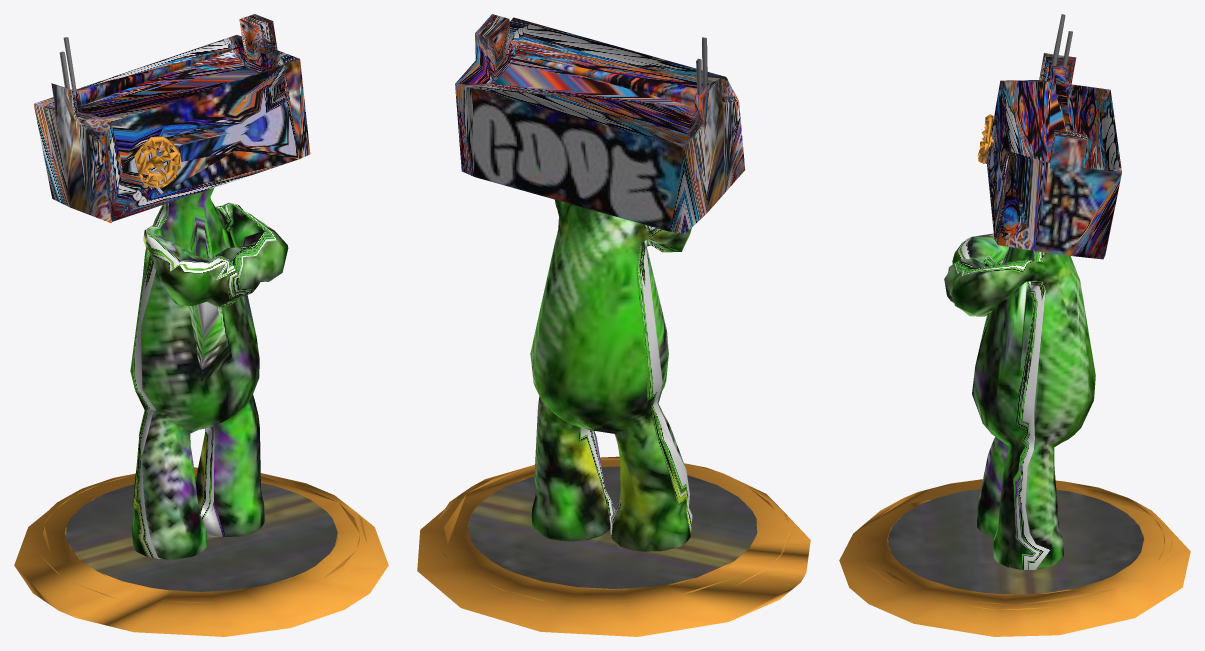
3 views of the same model, side by side, from view 1: azimuth 30°, elevation 25°; view 2: azimuth 150°, elevation 25°; view 3: azimuth 270°, elevation 25° (orthographic). The views are drawn at different scales.
Bounding box in the file's own units: 1.44 × 2.25 × 1.44.
Materials: 5 (4 with a texture image).
